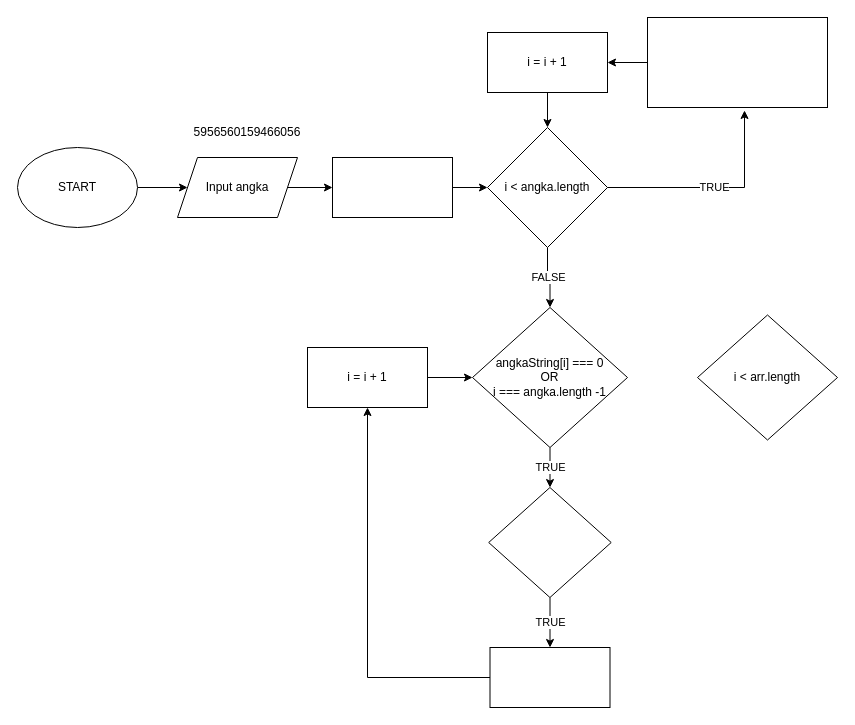
This 855x725 diagram has some shape labels left out. The box of each missing label's shape, as (x1, y1, x2, y2) in pixels:
angkaString !== 0: (488, 486, 611, 598)
angkaString = "" i = 0 arr = []: (332, 156, 452, 218)
angkaString = angkaString + angkaString[angka.length]: (646, 16, 828, 108)
arr = arr + angkaString[i]: (489, 646, 610, 708)
